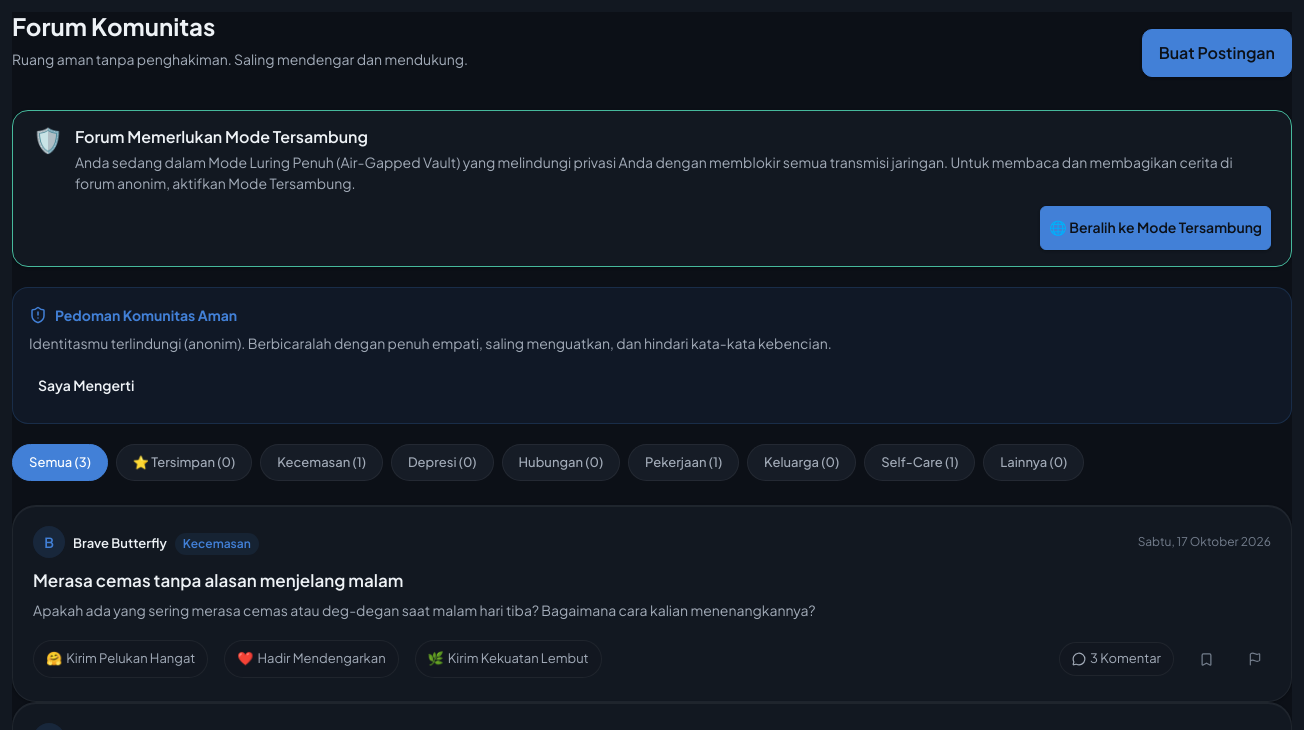
Test: Forum Dual-Mode Gating & Quiet Support Reactions › 1-click switch button immediately activates Connected Mode and removes air-gapped banner
The width and height of the screenshot is (1304, 730).
Click the button "🌐 Beralih ke Mode Tersambung": (1156, 228) [1040,206,1271,250]
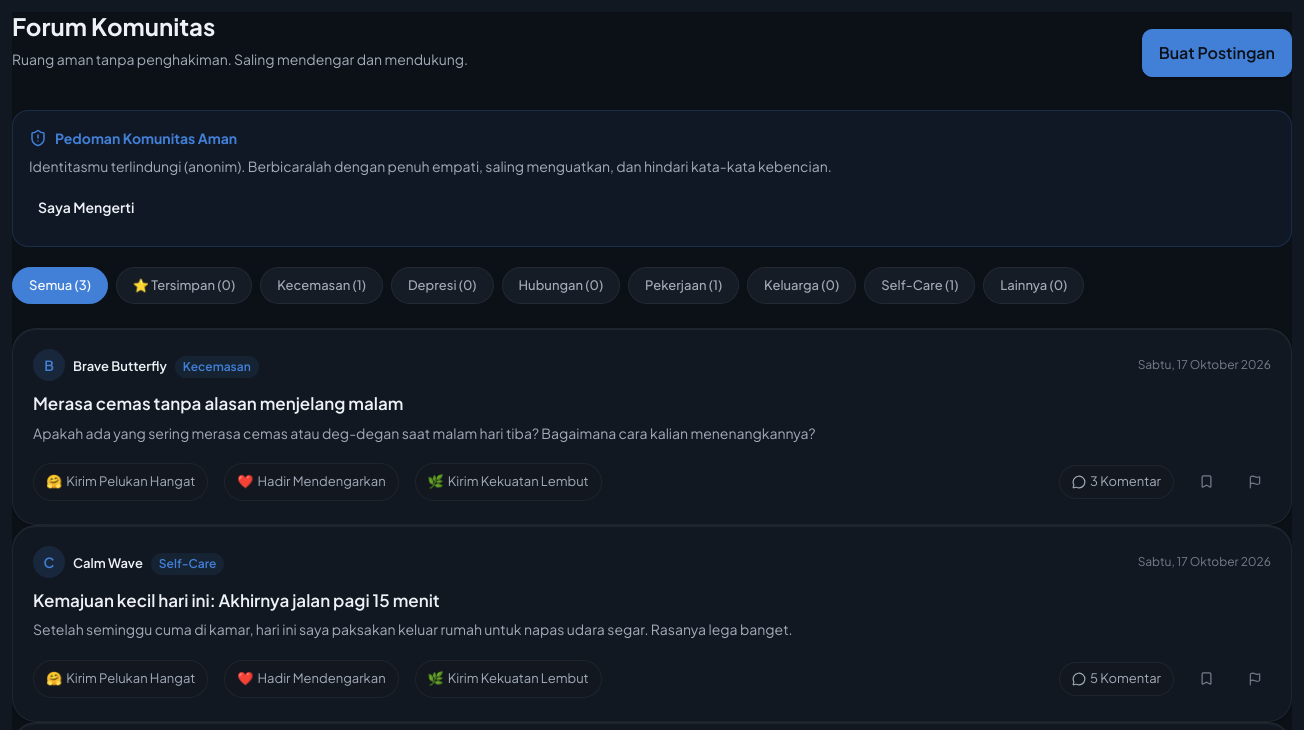
Check: the heading "Forum Memerlukan Mode Tersambung" is gone
